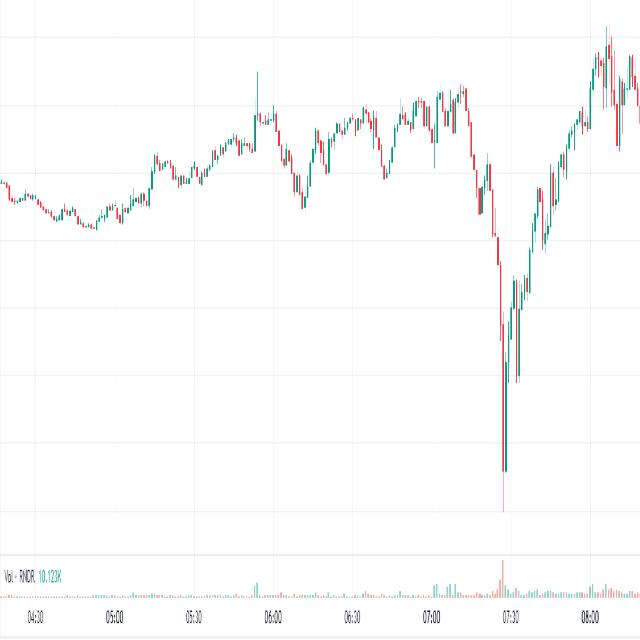Inverse-Head-Shoulders: (466, 68, 592, 497)
